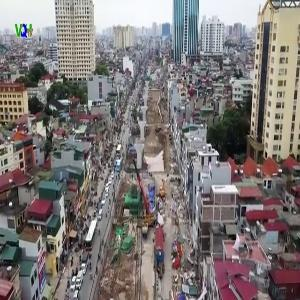drone: (19, 65, 99, 145)
